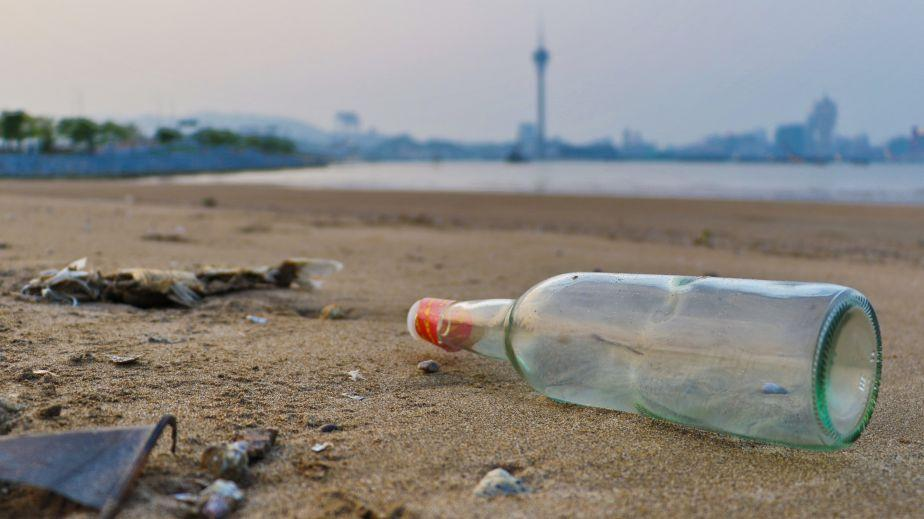Glass: (406, 261, 891, 454)
